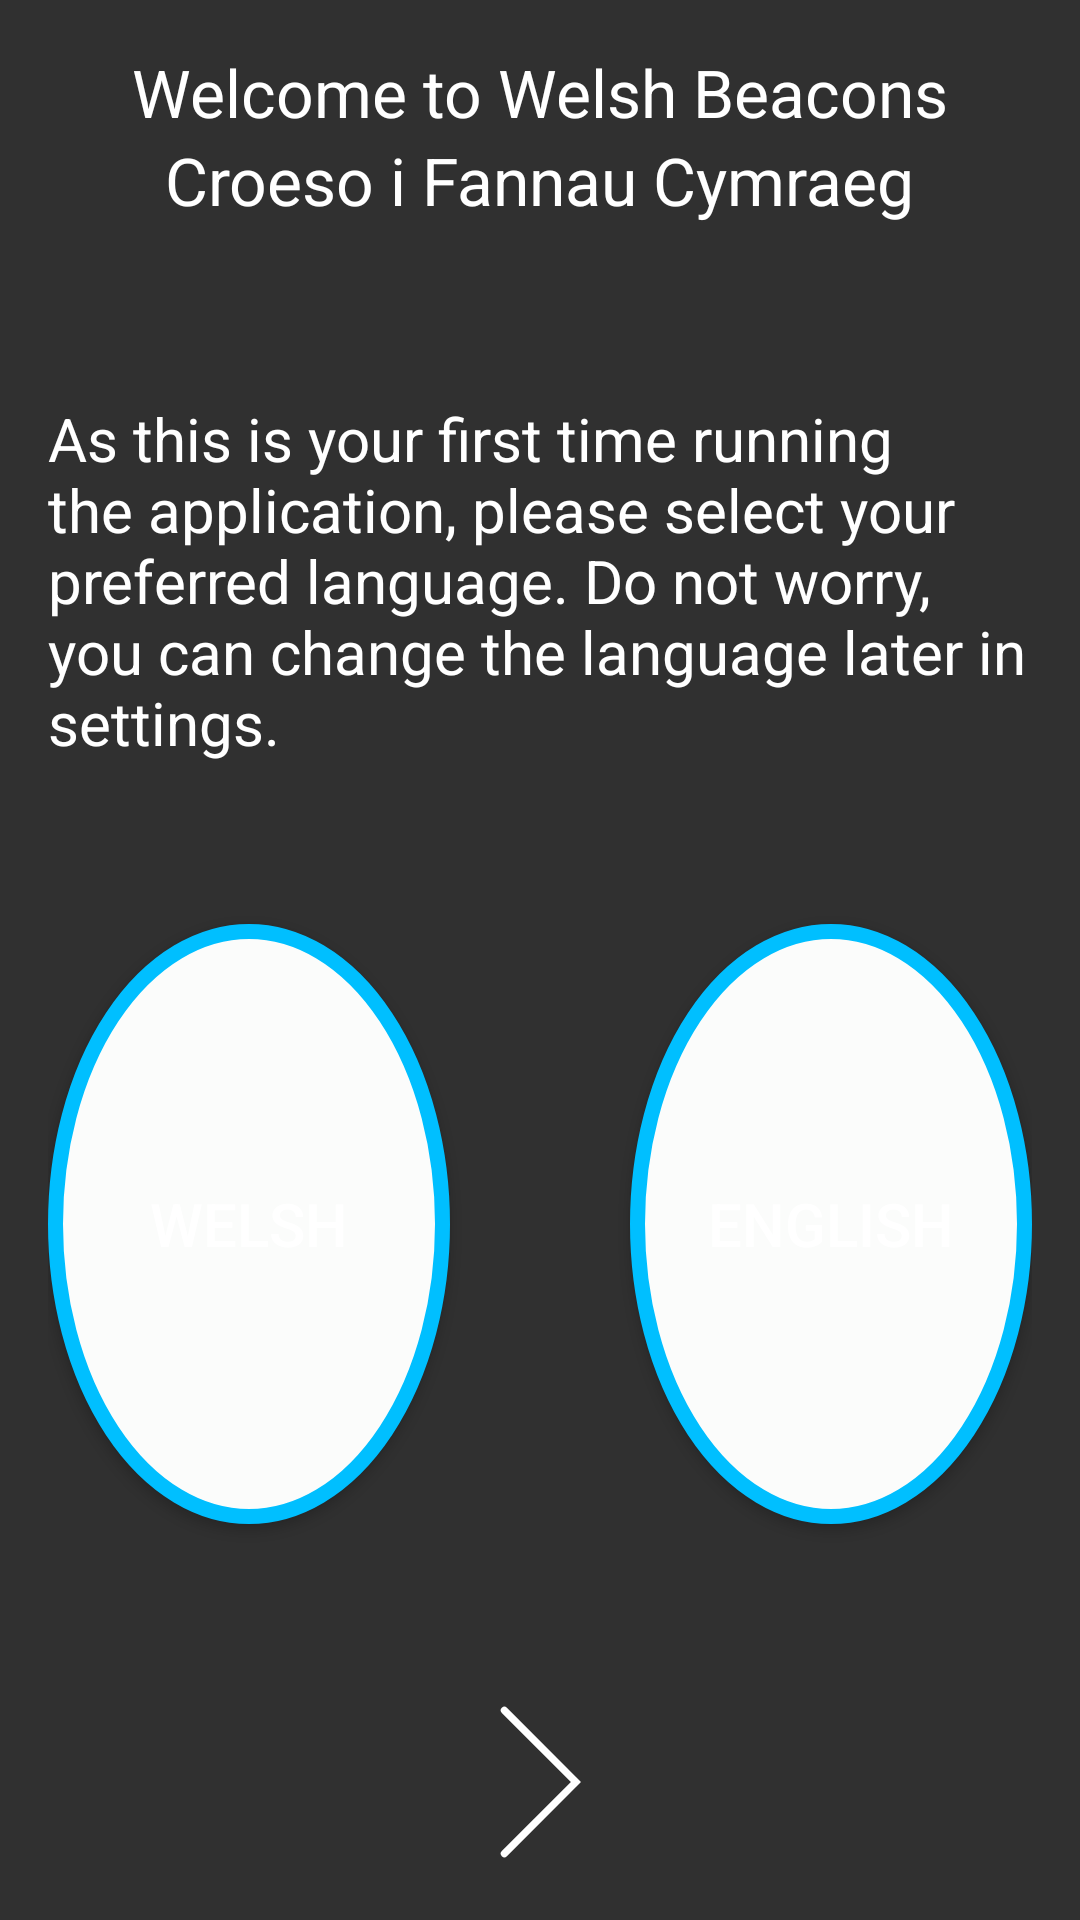

Named icons in this screenshot (1080*1920) and their centers, point (x, y):
arrow: point (540, 1782)
